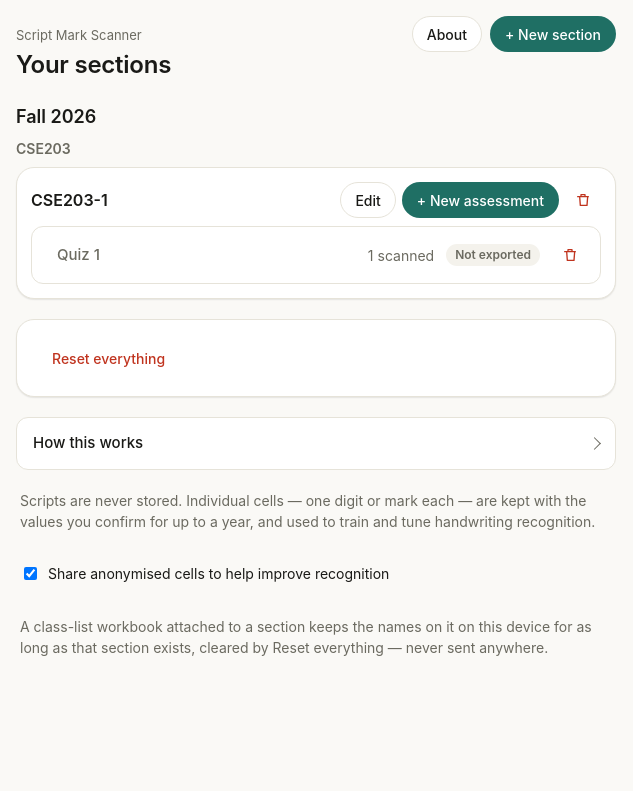
it: Library — the real semester from the design discussion › resume confirmation (step.md 13.14) › asks before resuming an assessment last scanned days ago
Click the button "Quiz 1": (78, 254) [44,237,356,273]
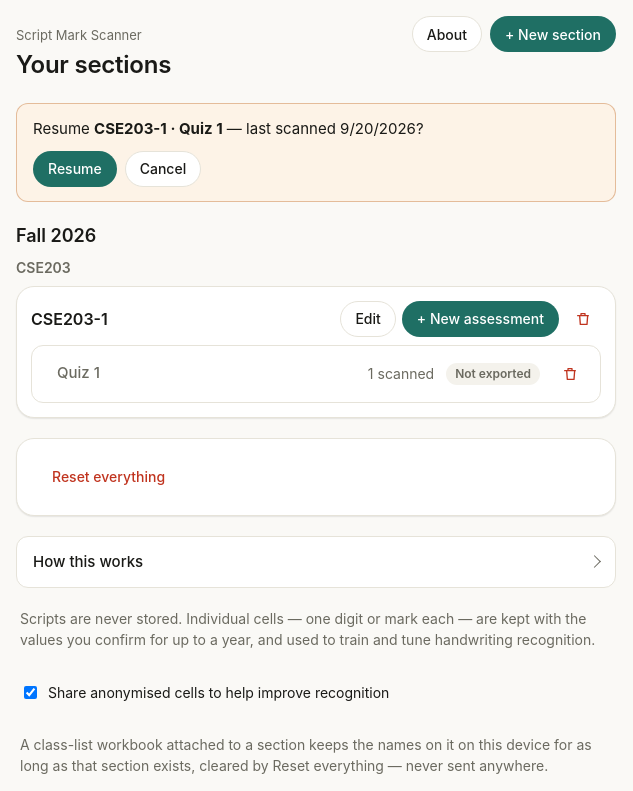
Check: the text "Resume CSE203-1 · Quiz 1 — last scanned 9/20/2026?" is shown, box [33,119,424,138]
